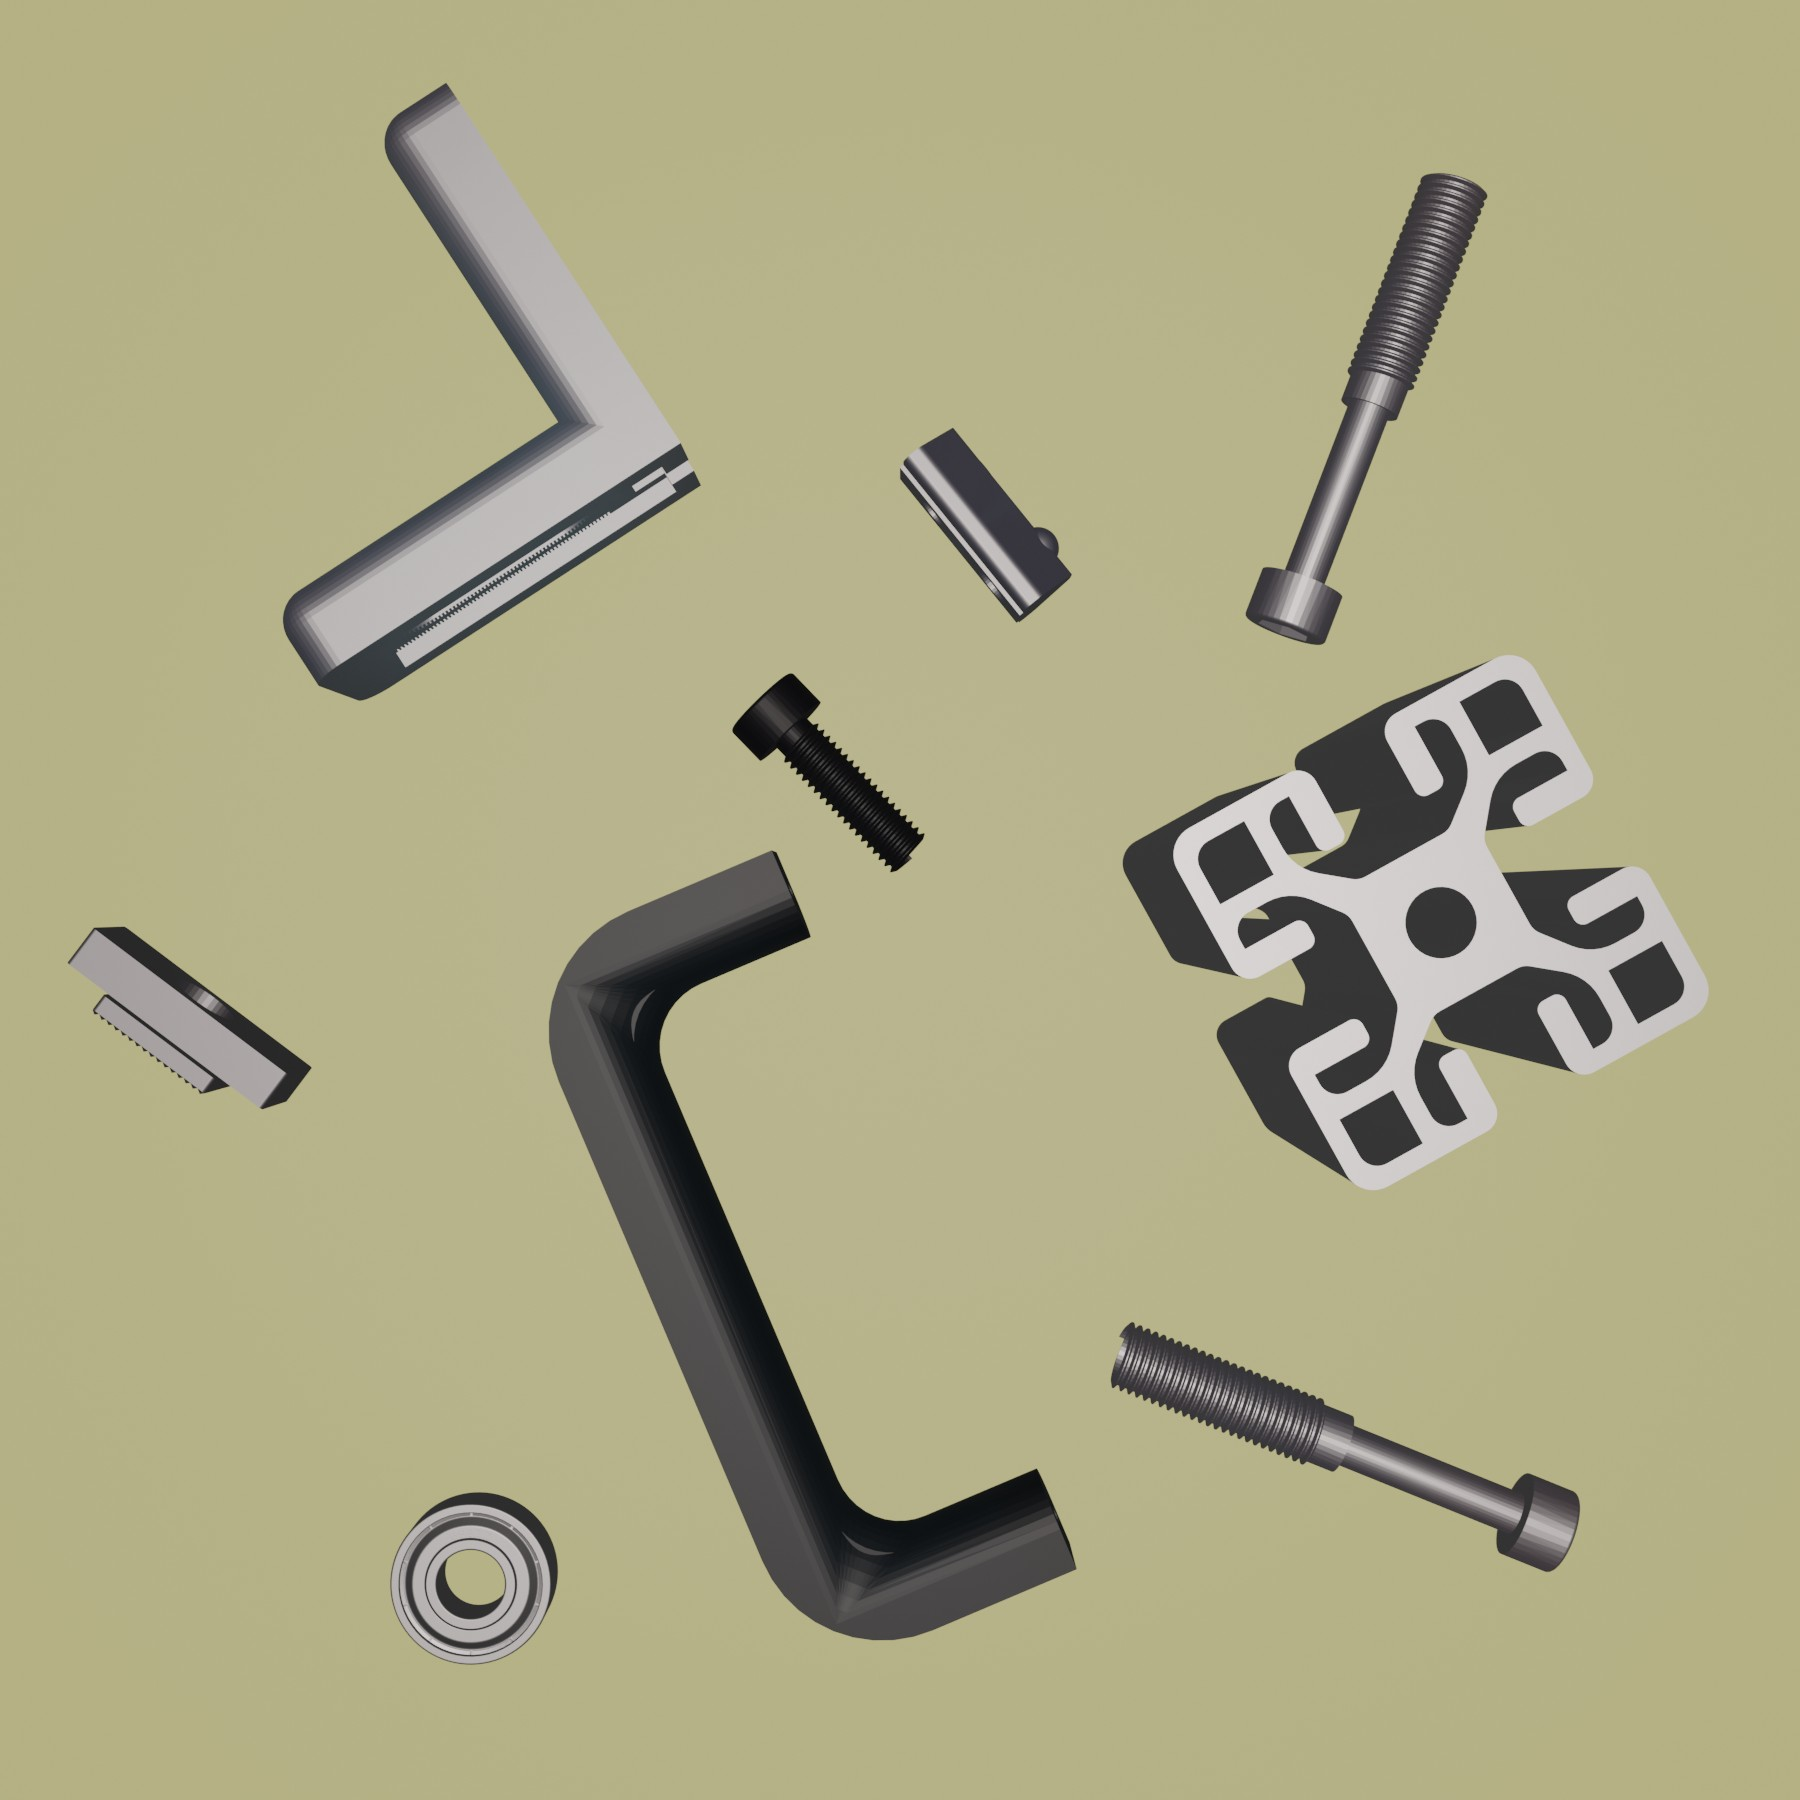Aluminium Extension: (1121, 651, 1713, 1197)
Ball Bearing: (389, 1488, 560, 1666)
Multiwinkel: (280, 76, 704, 704)
Pull Handle: (546, 847, 1080, 1642)
Shoulder Socket Head Cap Screw: (1101, 1320, 1582, 1577), (1245, 170, 1490, 649)
Socket Head Cap Screw: (729, 669, 926, 874)
T Nut Square: (63, 920, 312, 1109)
T Spring Nut: (893, 427, 1073, 628)
